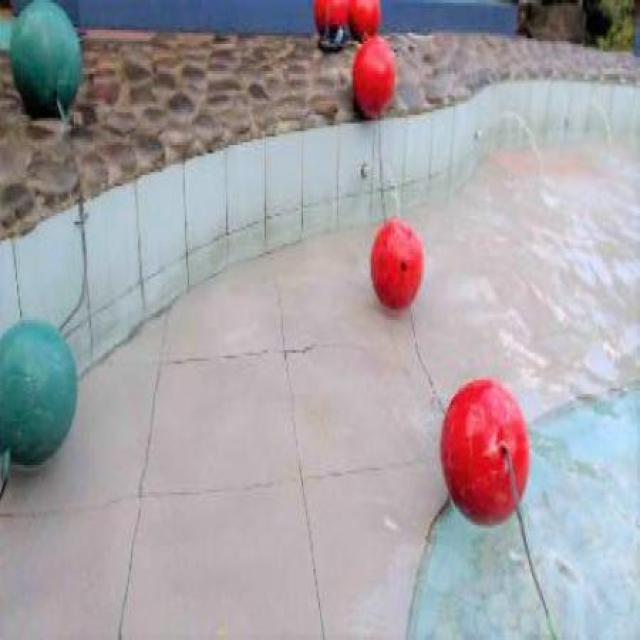buoy: (439, 379, 530, 524), (0, 316, 77, 466), (9, 0, 81, 115), (368, 218, 423, 307), (350, 34, 394, 120), (349, 1, 381, 37)
